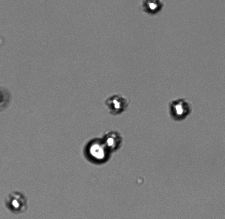Dead Cell: (1, 86, 11, 111)
Living Cell: (82, 136, 111, 165), (168, 97, 191, 120), (105, 93, 128, 115), (6, 191, 27, 213), (103, 130, 124, 150), (141, 1, 164, 16)
